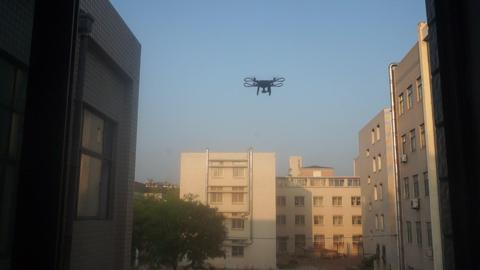UAV: (244, 76, 286, 96)
